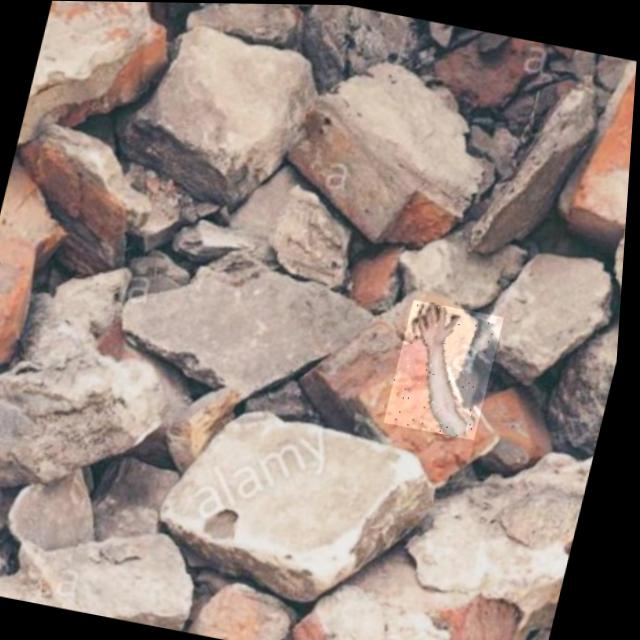Person in Rubble: (388, 298, 509, 438)
